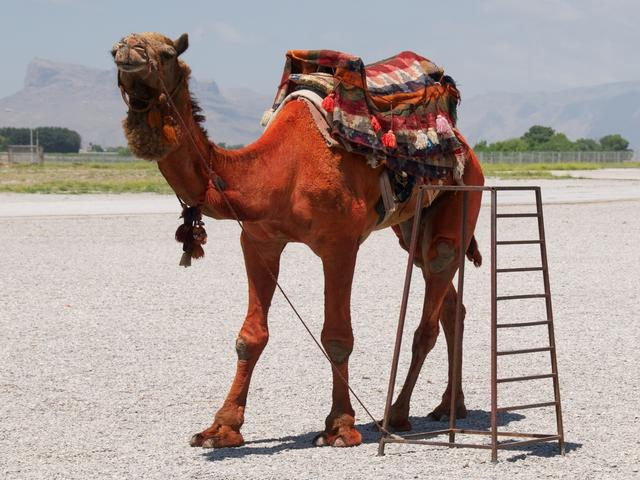camel: (79, 13, 474, 450)
